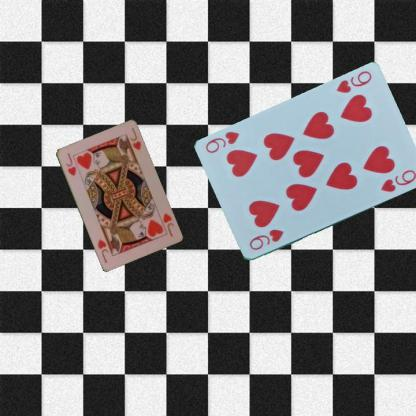9h: (334, 68, 374, 95), (246, 226, 286, 252)
Jh: (160, 210, 175, 238), (63, 150, 77, 177)
